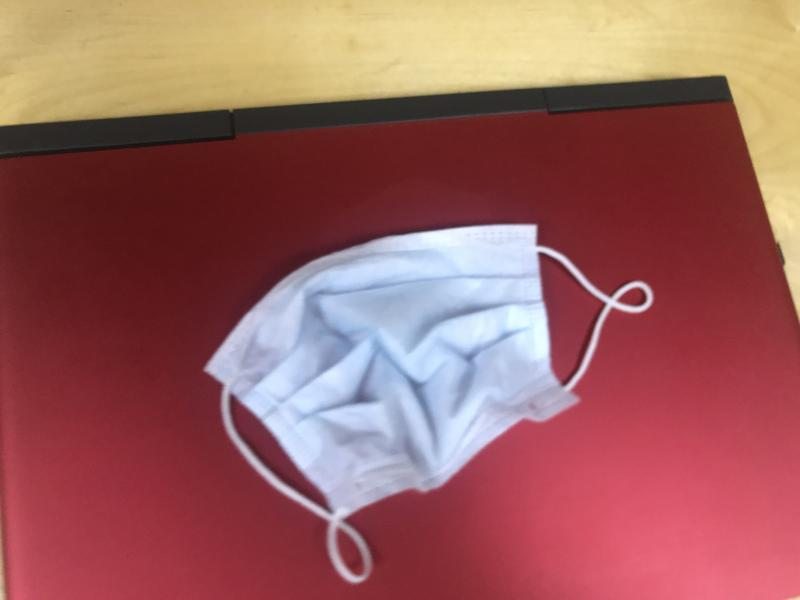medical_mask: (210, 226, 653, 582)
